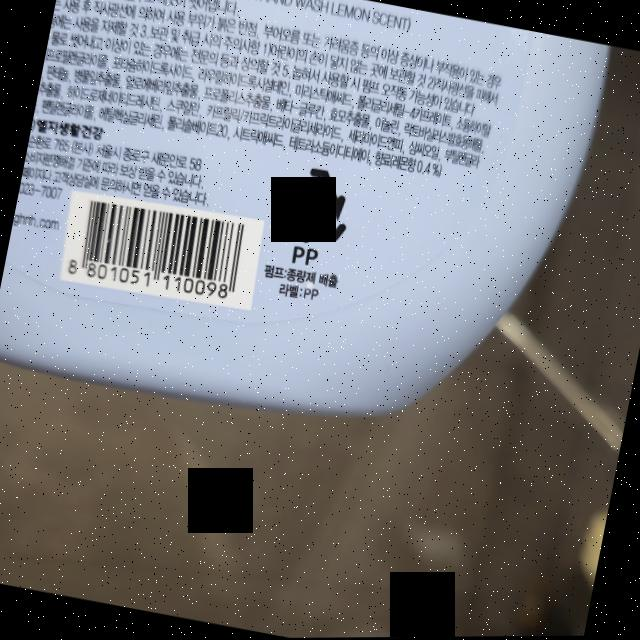Plastic: (266, 156, 362, 255)
